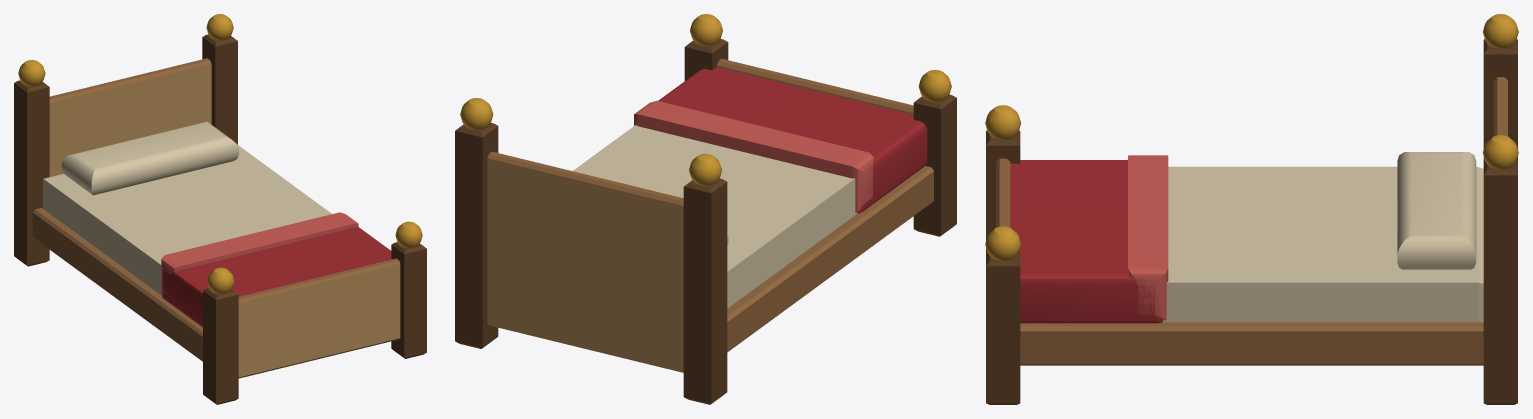
Rendered from Bed_12.glb.
The picture shows the model from 3 angles, left to right: view 1: azimuth 30°, elevation 25°; view 2: azimuth 150°, elevation 25°; view 3: azimuth 270°, elevation 25°; orthographic projection. The views are drawn at different scales.
Visible parts, largest first — view 1: Bed_12; view 2: Bed_12; view 3: Bed_12.
Boxes of the visible parts, <box> form: Bed_12: <box>14,14,426,404</box>; Bed_12: <box>455,14,956,404</box>; Bed_12: <box>985,14,1518,404</box>.
Bounding box in the file's own units: 4.48 × 4.03 × 7.42.
